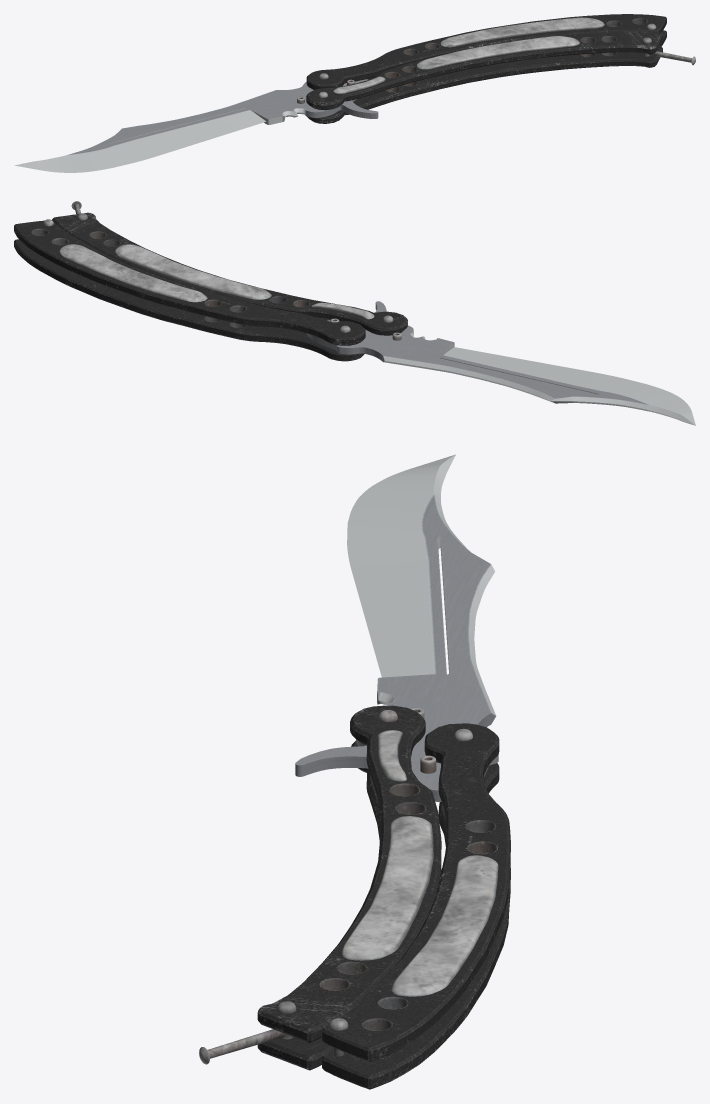
The picture shows the model from 3 angles, top to bottom: view 1: azimuth 30°, elevation 25°; view 2: azimuth 150°, elevation 25°; view 3: azimuth 270°, elevation 25°; orthographic projection. The views are drawn at different scales.
Visible parts, largest first — view 1: Batterfly-Knife; view 2: Batterfly-Knife; view 3: Batterfly-Knife.
Part boxes in pixels (left/top/right/bottom): Batterfly-Knife: left=14, top=14, right=695, bottom=172; Batterfly-Knife: left=14, top=201, right=695, bottom=425; Batterfly-Knife: left=199, top=454, right=510, bottom=1089.
Bounding box in the file's own units: 4.59 × 0.1921 × 0.981.
Materials: 4 (4 with a texture image).
